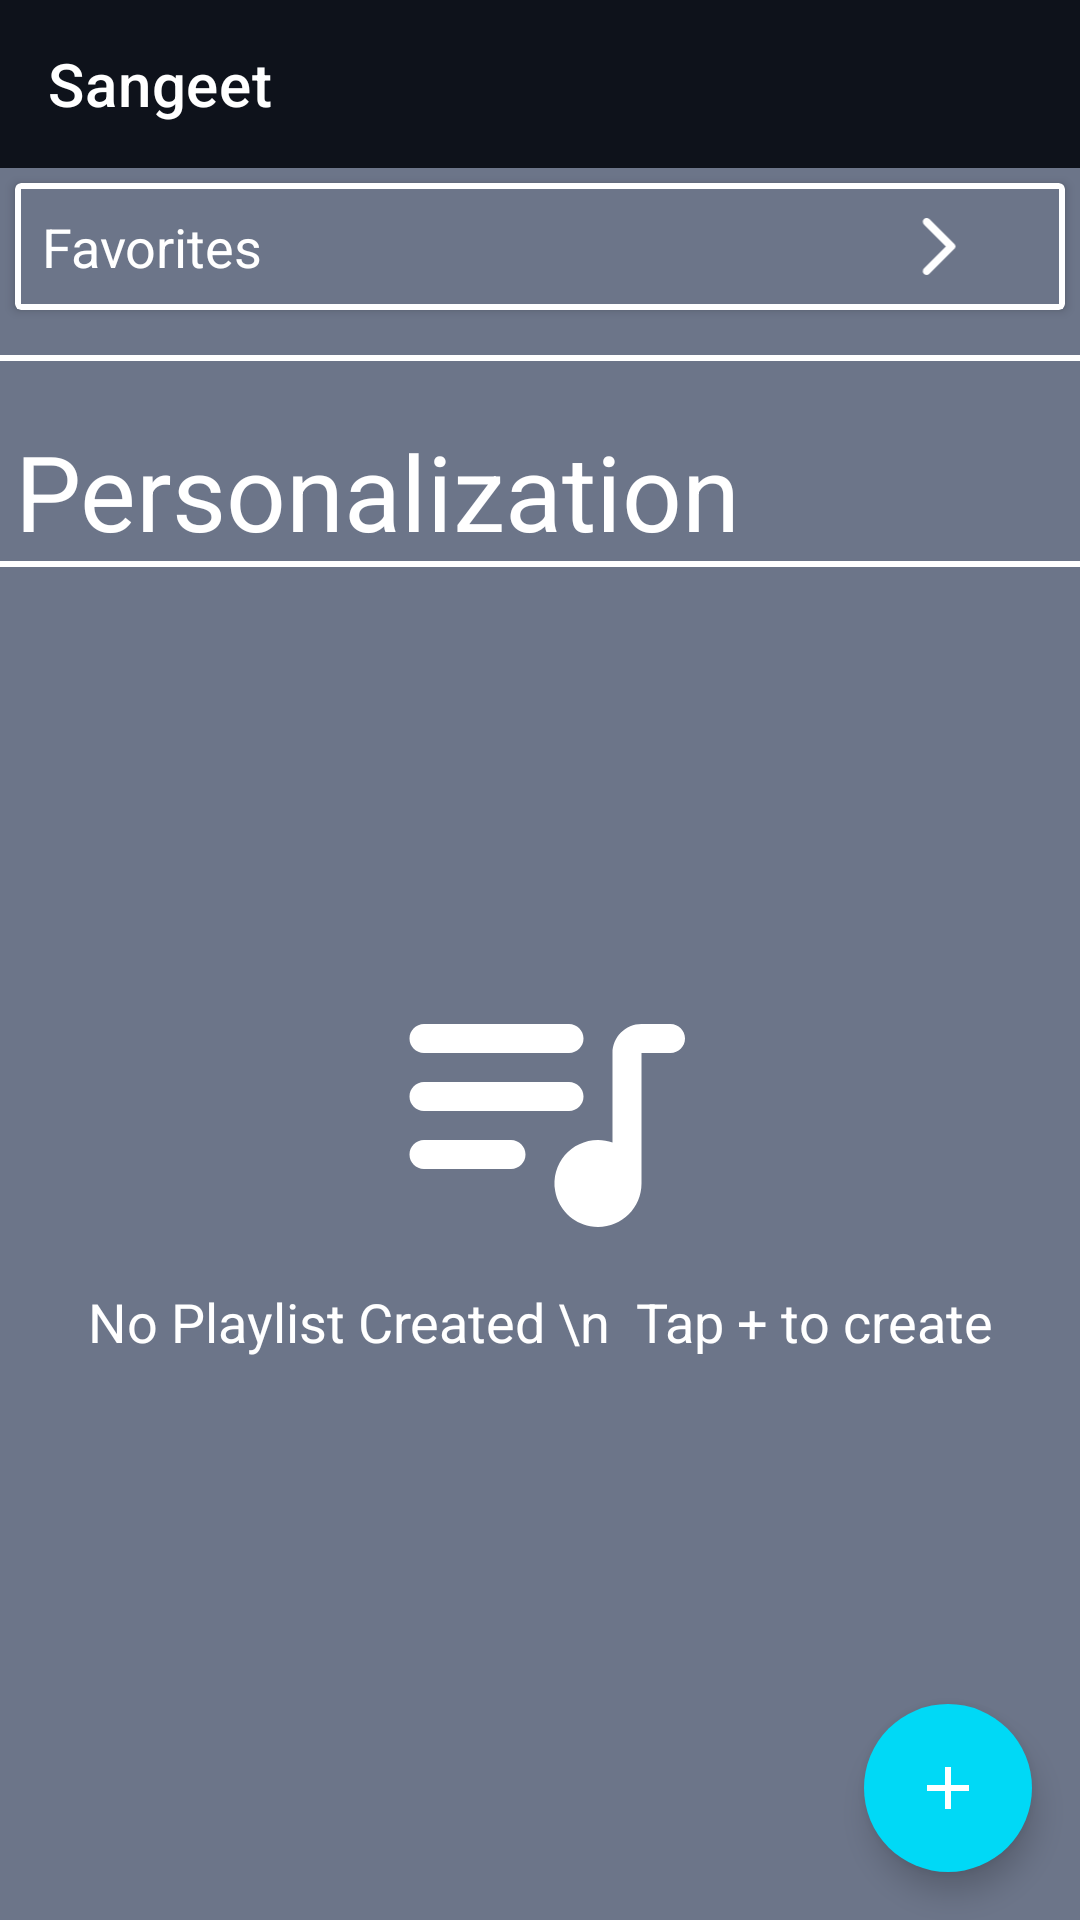

Where icons sit on this 1080w x 1920h app screen, as (x1, y1, x2, y2):
arrow forward: (922, 218, 956, 275)
Create Playlist: (864, 1704, 1032, 1872)
playlist empty: (409, 1024, 685, 1227)
